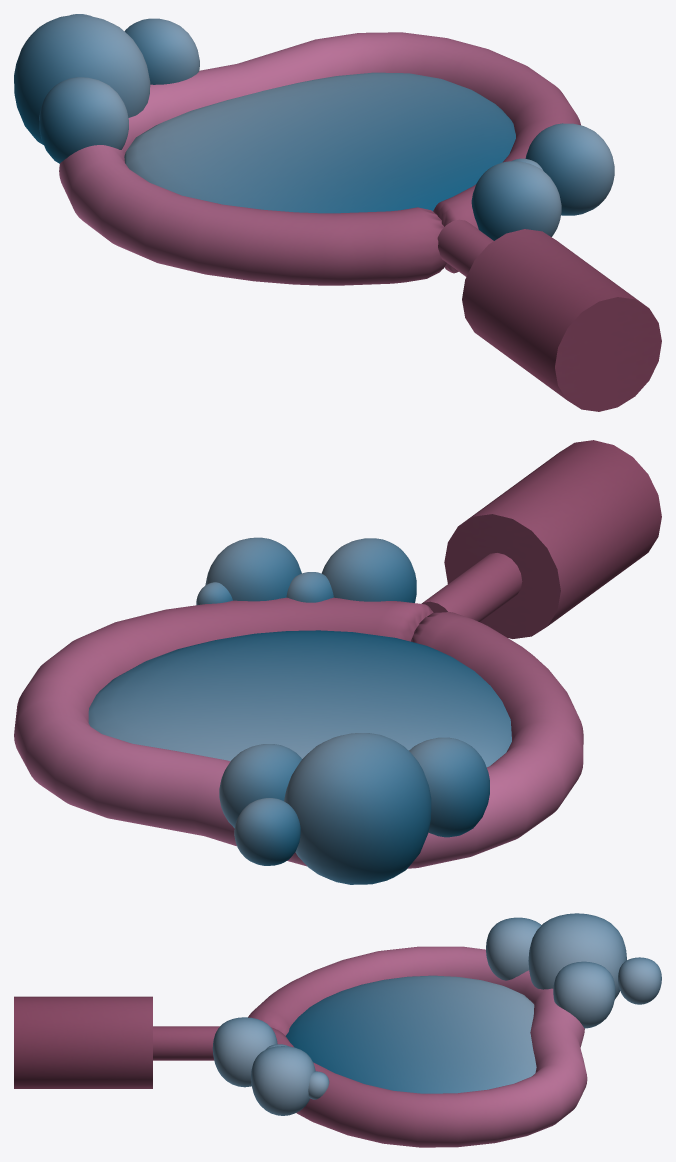
The model's file is Burbujas_Completo.glb.
3 renders of one model, top to bottom at view 1: azimuth 30°, elevation 25°; view 2: azimuth 150°, elevation 25°; view 3: azimuth 270°, elevation 25°, orthographic. The views are drawn at different scales.
Parts seen in each view (by area): view 1: Cylinder004, Cuerpo006, Cuerpo005, Cuerpo001, Cuerpo002, Cuerpo007; view 2: Cylinder004, Cuerpo006, Cuerpo005, Cuerpo001, Cuerpo002, Cuerpo007, Cuerpo008, Cuerpo003; view 3: Cylinder004, Cuerpo006, Cuerpo002, Cuerpo007, Cuerpo001, Cuerpo005, Cuerpo008, Cuerpo004.
Part boxes in pixels (x1,y1,x2,y2): Cylinder004: (59, 32, 661, 411); Cuerpo006: (14, 15, 150, 144); Cuerpo005: (39, 77, 128, 163); Cuerpo001: (471, 161, 561, 240); Cuerpo002: (525, 123, 614, 215); Cuerpo007: (124, 18, 199, 84); Cylinder004: (14, 440, 661, 868); Cuerpo006: (284, 733, 431, 884); Cuerpo005: (409, 737, 489, 837); Cuerpo001: (321, 538, 416, 602); Cuerpo002: (205, 537, 301, 601); Cuerpo007: (219, 744, 301, 828); Cuerpo008: (234, 798, 300, 865); Cuerpo003: (286, 572, 333, 602); Cylinder004: (14, 946, 587, 1147); Cuerpo006: (528, 913, 626, 998); Cuerpo002: (251, 1046, 315, 1115); Cuerpo007: (553, 961, 615, 1028); Cuerpo001: (212, 1017, 277, 1087); Cuerpo005: (486, 917, 541, 980); Cuerpo008: (618, 957, 661, 1004); Cuerpo004: (308, 1071, 329, 1099).
Size of the model in its own units: 1.25 by 0.3821 by 2.02.
Materials: 2 (2 with a texture image).
